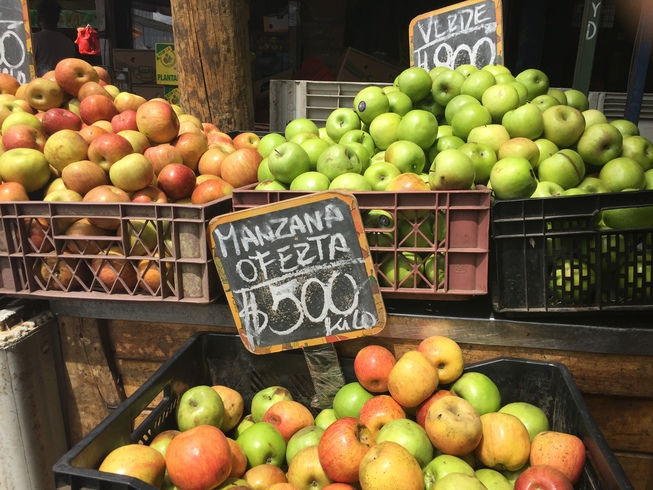precio: (186, 186, 405, 361), (402, 1, 513, 84)
